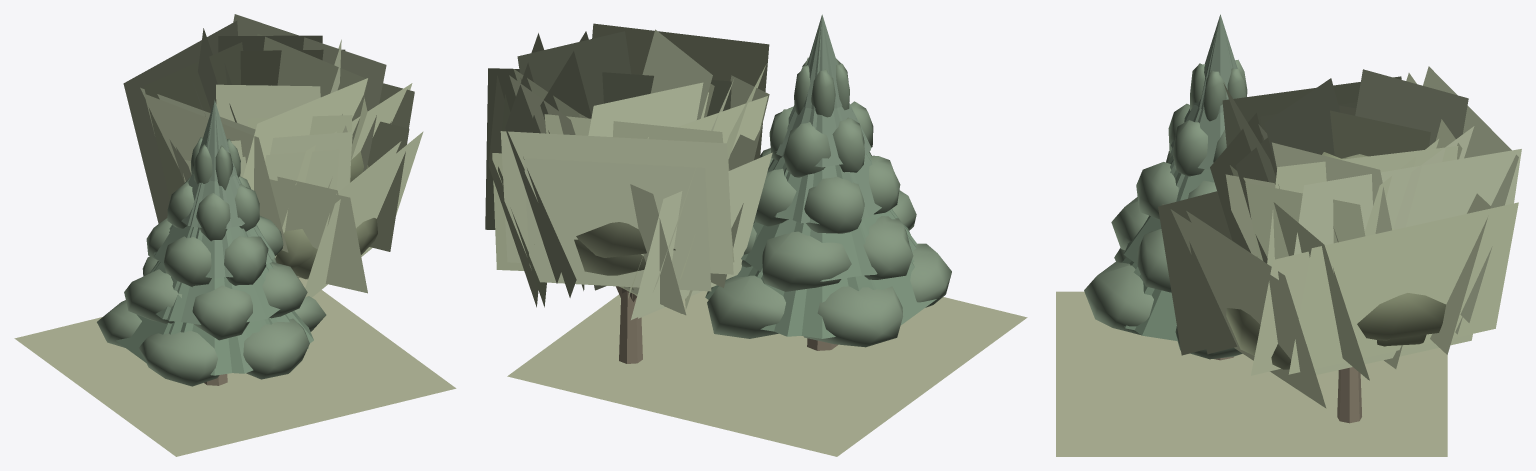
3 views of the same model, side by side, from view 1: azimuth 30°, elevation 25°; view 2: azimuth 150°, elevation 25°; view 3: azimuth 270°, elevation 25° (orthographic). The views are drawn at different scales.
Parts seen in each view (by area): view 1: Near, Mid, Far; view 2: Near, Mid; view 3: Near, Mid.
Part boxes in pixels (left/top/right/bottom): Near: left=14, top=28, right=456, bottom=456; Mid: left=123, top=14, right=423, bottom=373; Far: left=180, top=151, right=368, bottom=332; Near: left=492, top=15, right=1027, bottom=456; Mid: left=485, top=15, right=917, bottom=336; Near: left=1056, top=14, right=1490, bottom=456; Mid: left=1122, top=15, right=1521, bottom=408.
Bounding box in the file's own units: 1.24 × 0.9594 × 1.19.
